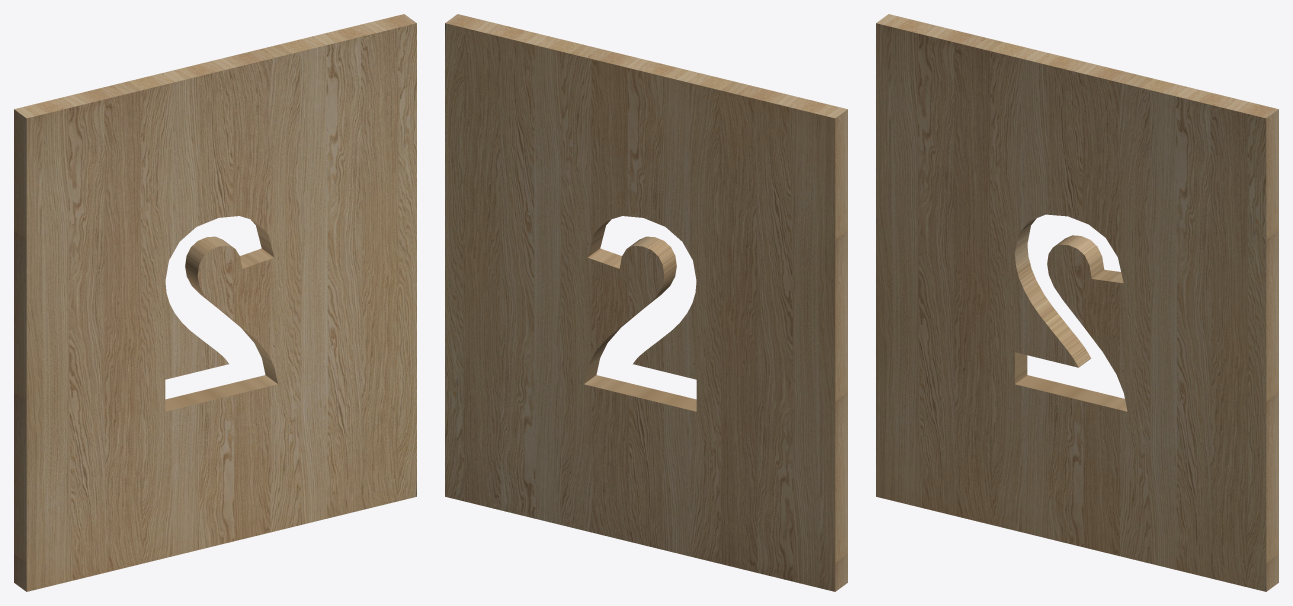
3 views of the same model, side by side, from view 1: azimuth 30°, elevation 25°; view 2: azimuth 150°, elevation 25°; view 3: azimuth 330°, elevation 25° (orthographic).
Parts seen in each view (by area): view 1: so2; view 2: so2; view 3: so2.
Boxes of the visible parts, x1,y1,x2,y2 form: so2: [14, 14, 416, 591]; so2: [445, 14, 847, 591]; so2: [876, 14, 1278, 591].
Size of the model in its own units: 2.89 by 3.36 by 0.1618.
Materials: 1 (1 with a texture image).
